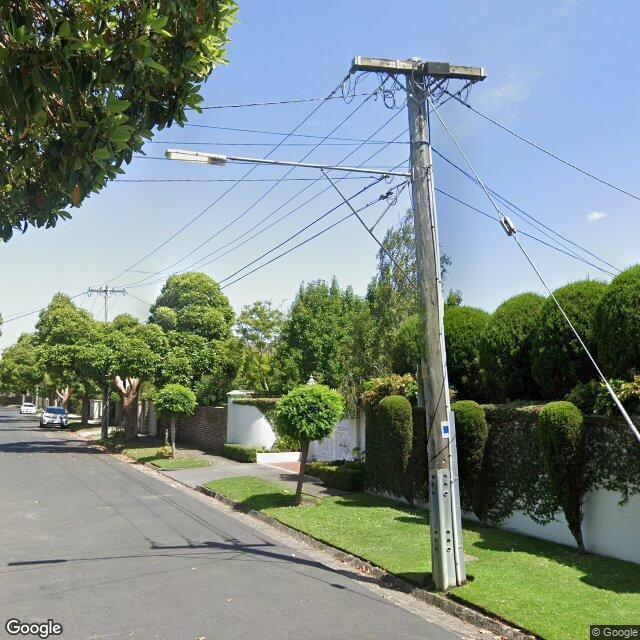crossarm: (351, 57, 487, 81), (88, 289, 126, 292)
streetlight: (166, 148, 414, 181)
timber-pole: (406, 59, 462, 590), (101, 285, 107, 440)
